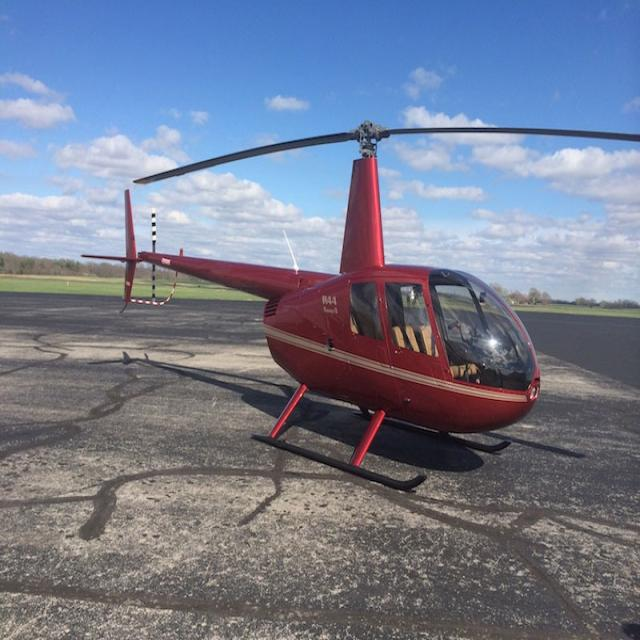CIV_HELO: (80, 117, 542, 495)
